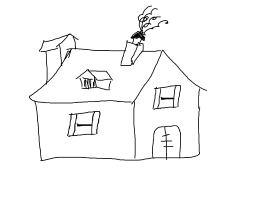chimney: (35, 31, 78, 82)
closed_window: (63, 110, 107, 140), (152, 80, 181, 112)
door: (149, 120, 182, 160)
roof: (21, 48, 215, 106)
smoking_chimney: (115, 3, 170, 66)
wall: (32, 100, 142, 163)
